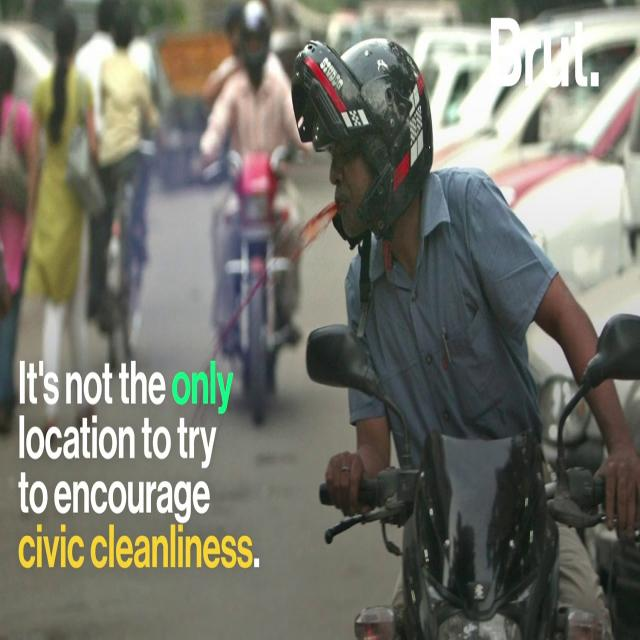spit: (205, 122, 360, 390)
